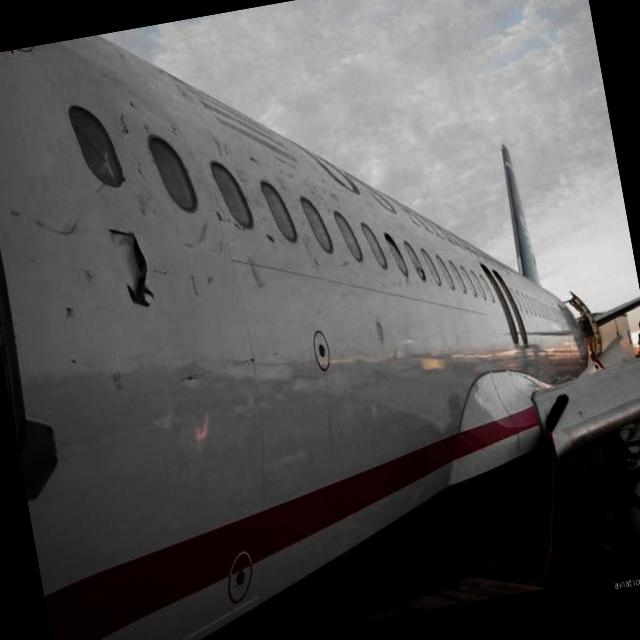crack: (102, 218, 160, 320)
